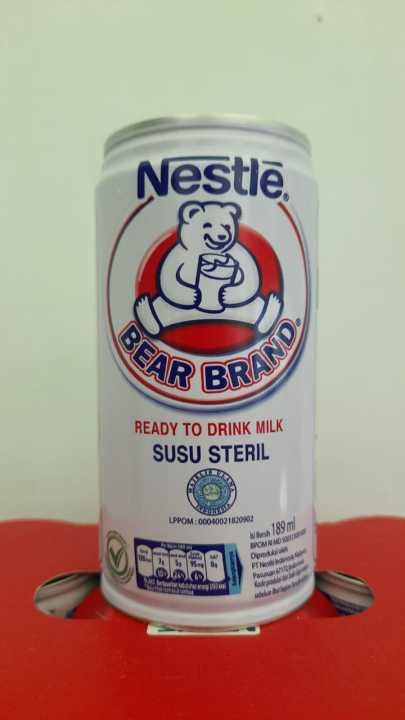Bear Brand Susu Steril (189ml): (81, 115, 318, 620)
